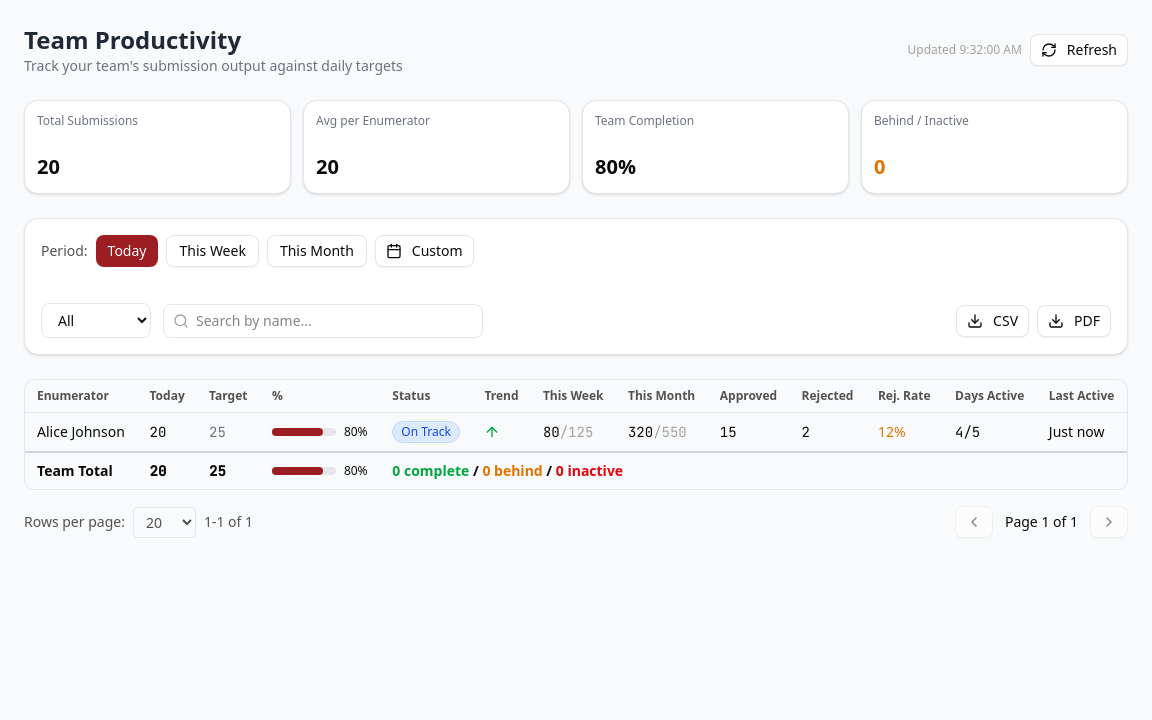
it: SupervisorProductivityPage › Interactions › shows date range inputs when Custom period selected
The width and height of the screenshot is (1152, 720).
What coordinates should you click on to do the following:
click the button with test id "period-custom"
I would click on:
 (424, 251)
Its box is x1=375 y1=235 x2=474 y2=267.
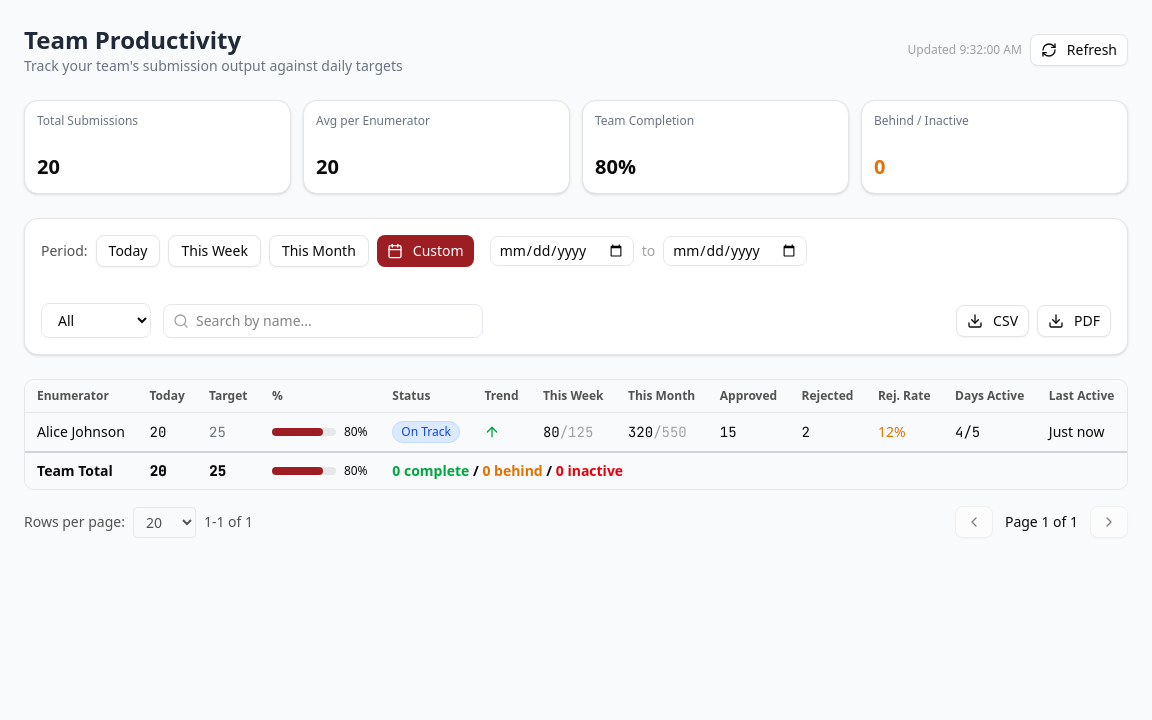
expect the element with test id "custom-date-range" is shown: met, box x1=490 y1=236 x2=807 y2=266
expect the date field with test id "date-from" is shown: met, box x1=490 y1=236 x2=634 y2=266
expect the date field with test id "date-to" is shown: met, box x1=663 y1=236 x2=807 y2=266
